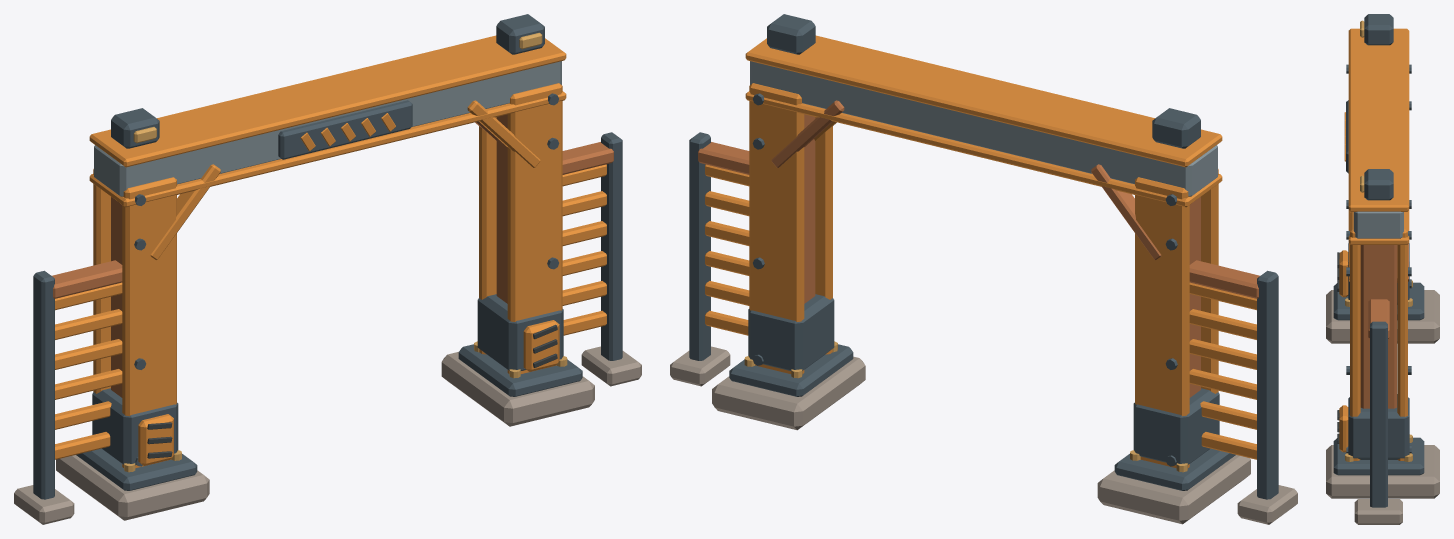
The model's file is wsc-module-019-yard-gate-frames.glb.
3 views of the same model, side by side, from view 1: azimuth 30°, elevation 25°; view 2: azimuth 150°, elevation 25°; view 3: azimuth 270°, elevation 25° (orthographic). The views are drawn at different scales.
Parts seen in each view (by area): view 1: wsc-module-019-yard-gate-frames; view 2: wsc-module-019-yard-gate-frames; view 3: wsc-module-019-yard-gate-frames.
Boxes of the visible parts, left/top/right/bottom form: wsc-module-019-yard-gate-frames: left=14, top=14, right=641, bottom=524; wsc-module-019-yard-gate-frames: left=670, top=14, right=1297, bottom=524; wsc-module-019-yard-gate-frames: left=1326, top=14, right=1439, bottom=524.
Bounding box in the file's own units: 5.69 × 3.38 × 1.13.
